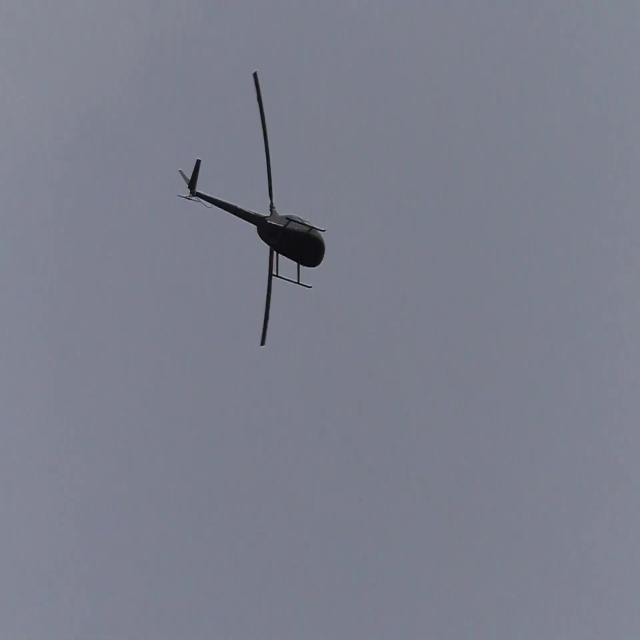CIV_HELO: (178, 156, 328, 291)
